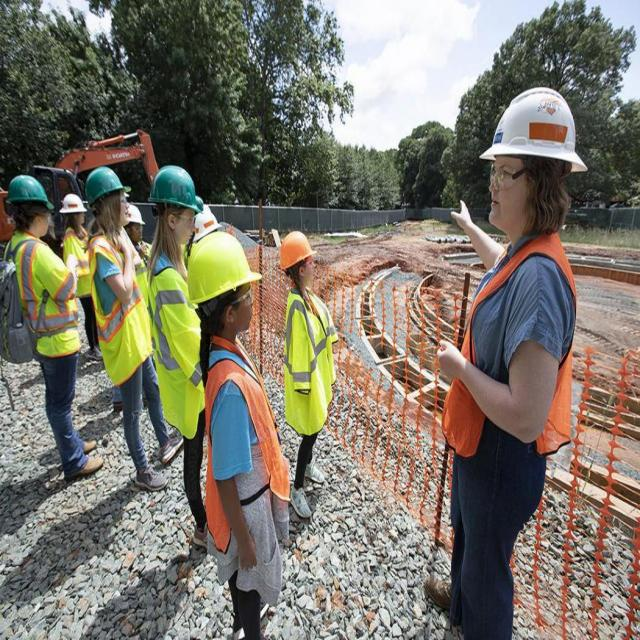Reflective-Jacket: (443, 231, 579, 463), (204, 348, 290, 518), (145, 255, 205, 444), (90, 233, 154, 380), (5, 238, 82, 358), (281, 286, 337, 434)
Safety-Helmet: (478, 80, 590, 174), (187, 228, 262, 304), (148, 163, 204, 214), (4, 171, 51, 208), (84, 164, 127, 203), (279, 226, 315, 270), (60, 189, 87, 215), (124, 201, 145, 227)
